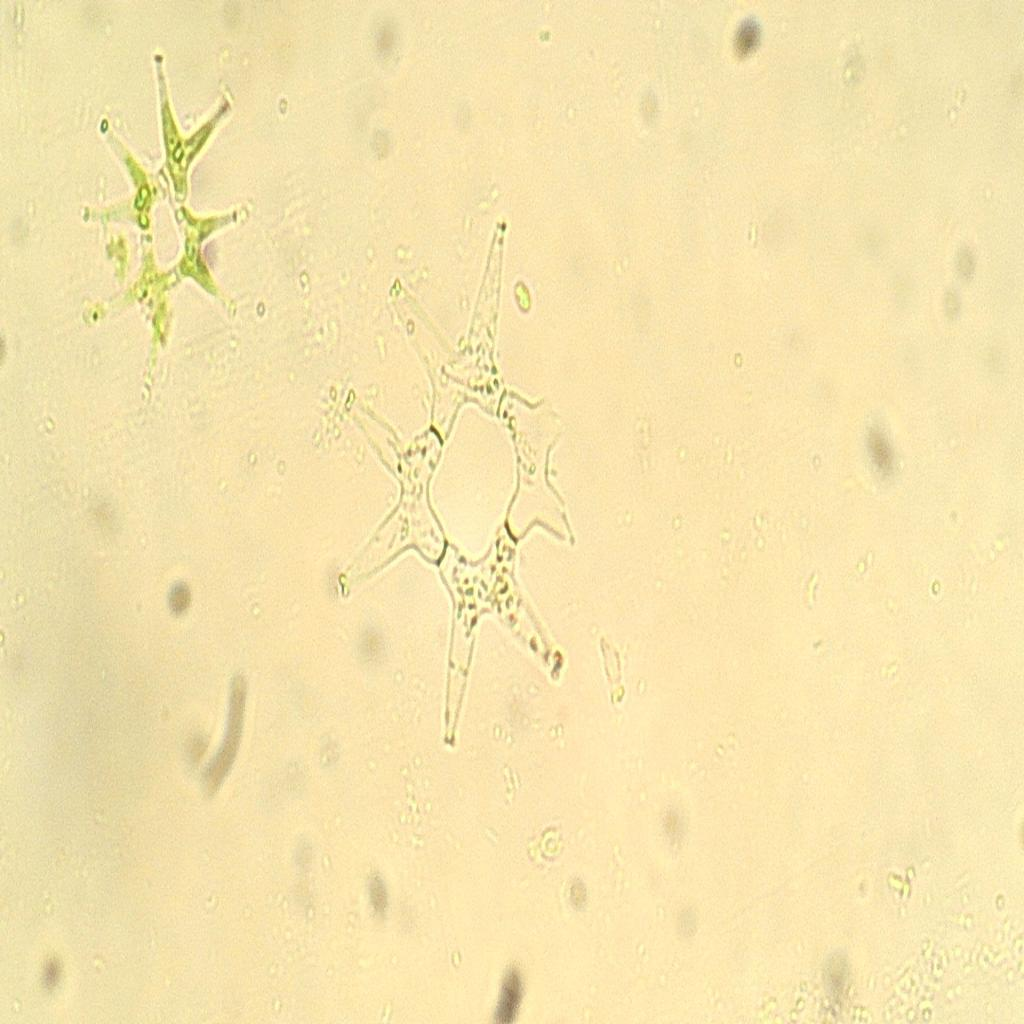Pediastrum_75TH: (304, 212, 618, 758)
